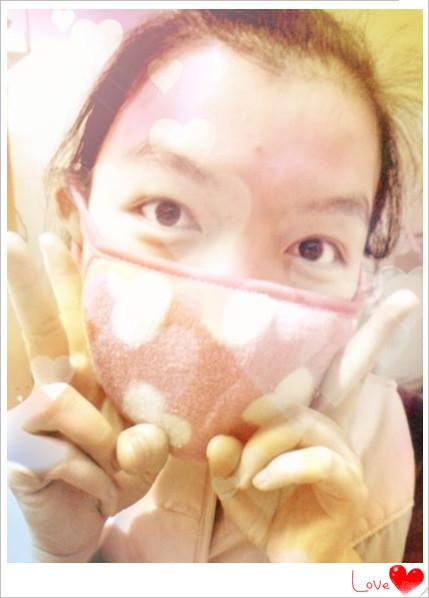OK: (78, 140, 368, 430)
